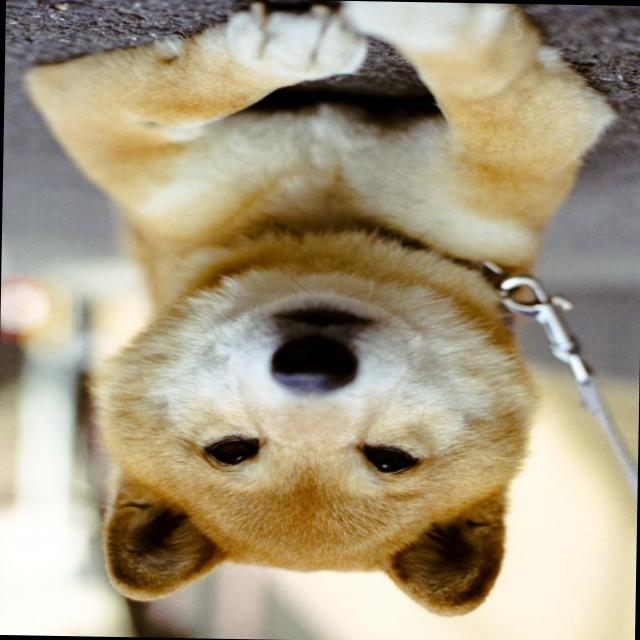dogs: (10, 0, 619, 623)
